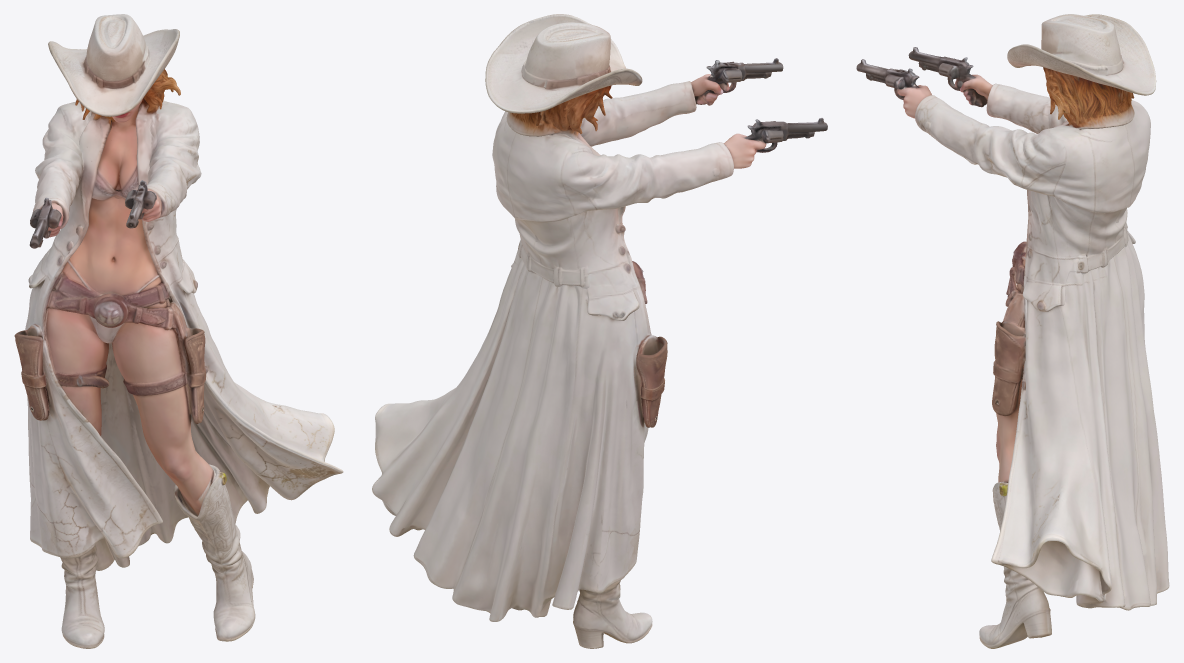
3 renders of one model, left to right at view 1: azimuth 30°, elevation 25°; view 2: azimuth 150°, elevation 25°; view 3: azimuth 270°, elevation 25°, orthographic. The views are drawn at different scales.
Parts seen in each view (by area): view 1: Mesh_0_modddif_material_0_0 (×2); view 2: Mesh_0_modddif_material_0_0 (×2); view 3: Mesh_0_modddif_material_0_0 (×2).
Part boxes in pixels (bbox=[...]): Mesh_0_modddif_material_0_0 (×2): bbox=[14, 14, 343, 648]; Mesh_0_modddif_material_0_0 (×2): bbox=[372, 14, 827, 648]; Mesh_0_modddif_material_0_0 (×2): bbox=[856, 14, 1169, 648].
Size of the model in its own units: 0.6454 by 1 by 0.48.
Materials: 1 (1 with a texture image).
